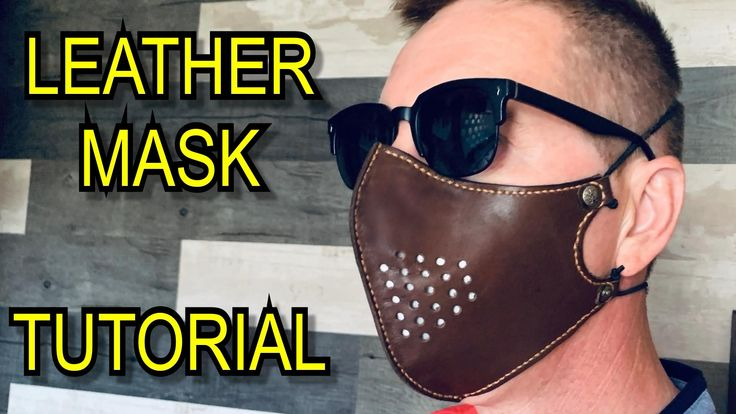cuero: (349, 146, 622, 399)
